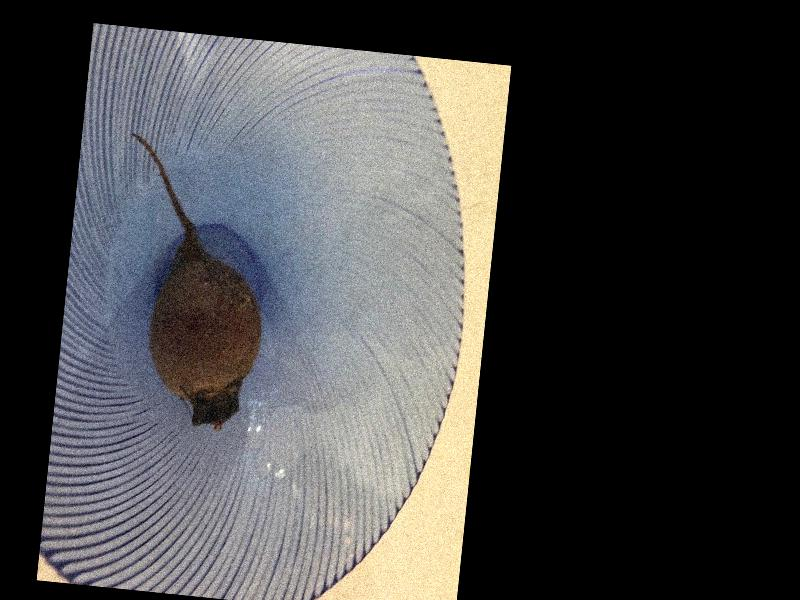Beet: (104, 133, 278, 431)
